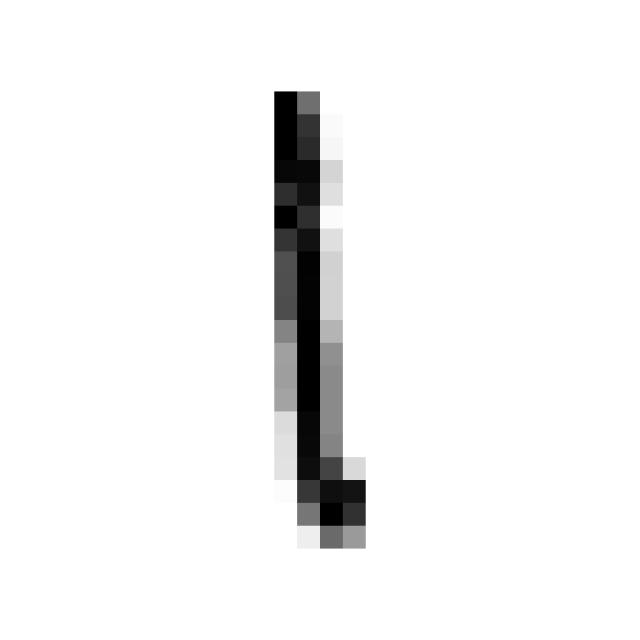1 -one-: (245, 66, 378, 563)
